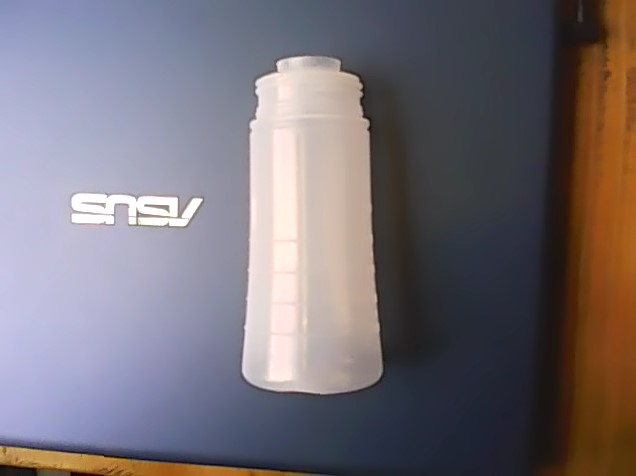Plastic: (235, 54, 388, 398)
